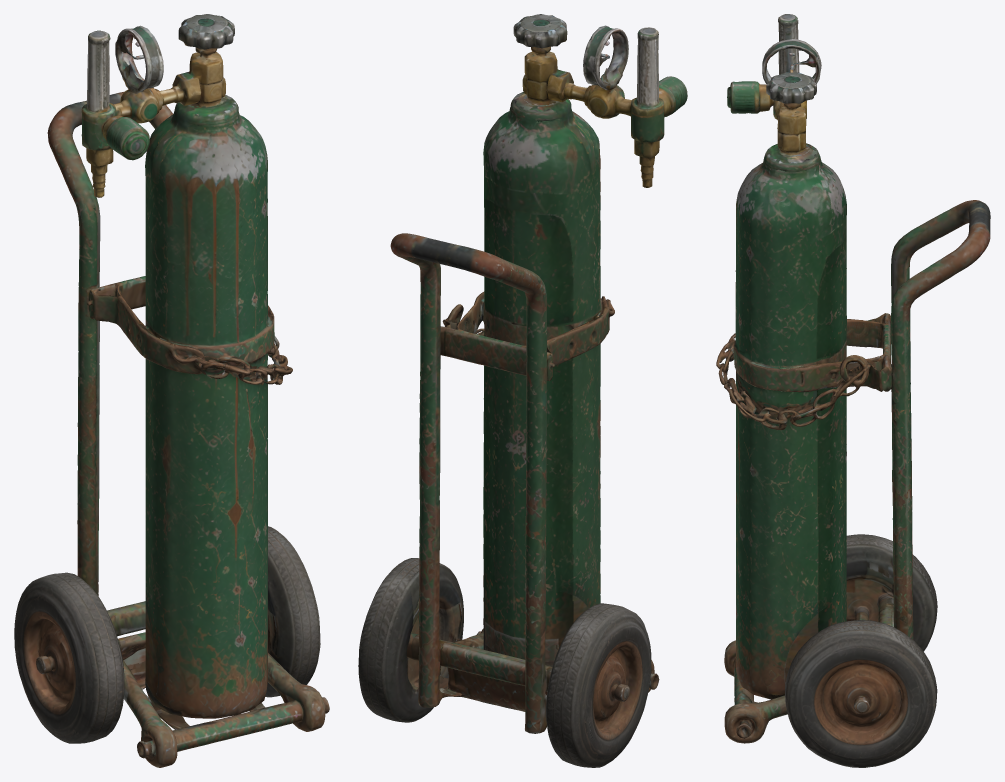
Rendered from OxygenTank.fbx.
3 views of the same model, side by side, from view 1: azimuth 30°, elevation 25°; view 2: azimuth 150°, elevation 25°; view 3: azimuth 270°, elevation 25° (orthographic). The views are drawn at different scales.
Visible parts, largest first — view 1: texture_mapping; view 2: texture_mapping; view 3: texture_mapping.
Boxes of the visible parts, bbox=[...] form: texture_mapping: bbox=[14, 14, 329, 767]; texture_mapping: bbox=[358, 14, 687, 767]; texture_mapping: bbox=[716, 14, 990, 767].
Size of the model in its own units: 0.3621 by 0.3789 by 1.
1 material, 1 textured.
